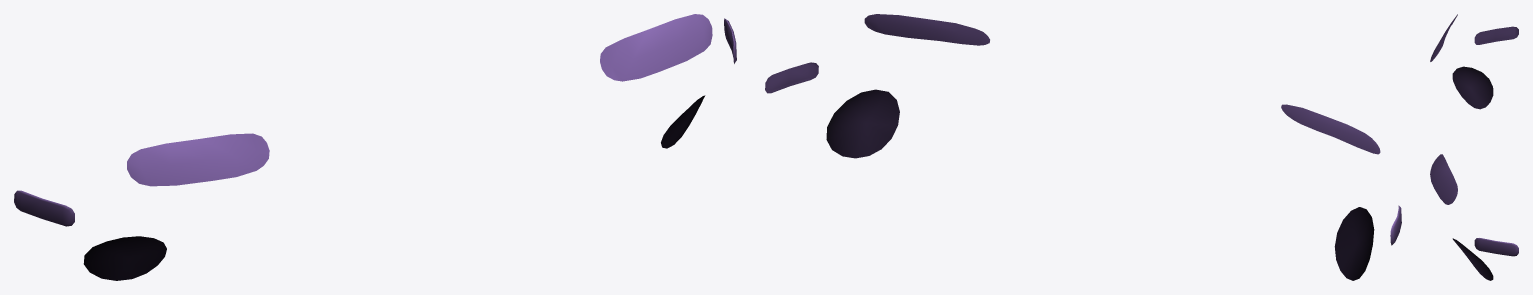
File: MX5_FB05_Detail.fbx
3 views of the same model, side by side, from view 1: azimuth 30°, elevation 25°; view 2: azimuth 150°, elevation 25°; view 3: azimuth 270°, elevation 25° (orthographic). The views are drawn at different scales.
Parts seen in each view (by area): view 1: MX5_FB05_Detail; view 2: MX5_FB05_Detail; view 3: MX5_FB05_Detail.
Part boxes in pixels (left/top/right/bottom): MX5_FB05_Detail: left=14, top=14, right=736, bottom=280; MX5_FB05_Detail: left=765, top=14, right=1401, bottom=280; MX5_FB05_Detail: left=1430, top=14, right=1518, bottom=280.
Size of the model in its own units: 148 by 29.85 by 25.38.
